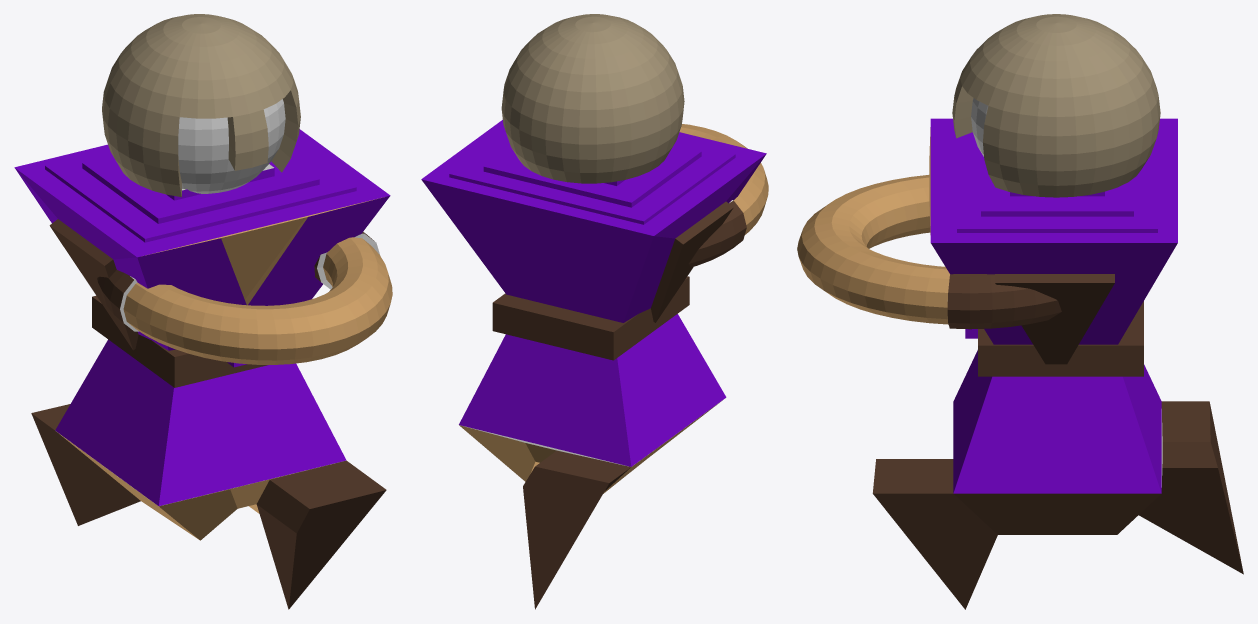
File: Light Creature.fbx
3 views of the same model, side by side, from view 1: azimuth 30°, elevation 25°; view 2: azimuth 150°, elevation 25°; view 3: azimuth 270°, elevation 25° (orthographic). The views are drawn at different scales.
Visible parts, largest first — view 1: Torus.000; view 2: Torus.000; view 3: Torus.000.
Part boxes in pixels (box(x1,y1,x2,y2)): Torus.000: box(14, 14, 392, 609); Torus.000: box(421, 14, 768, 609); Torus.000: box(797, 14, 1243, 609).
Size of the model in its own units: 50 by 106 by 75.97.
